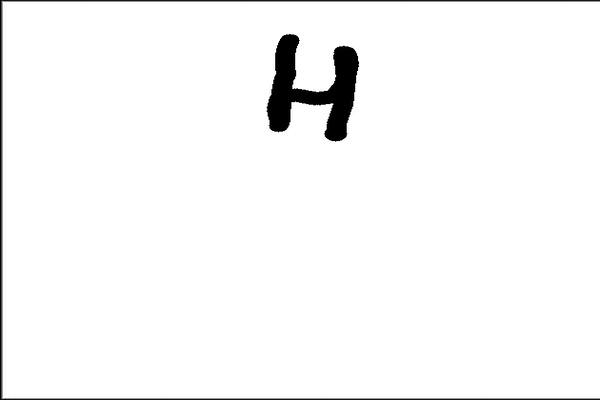H: (260, 28, 359, 145)
